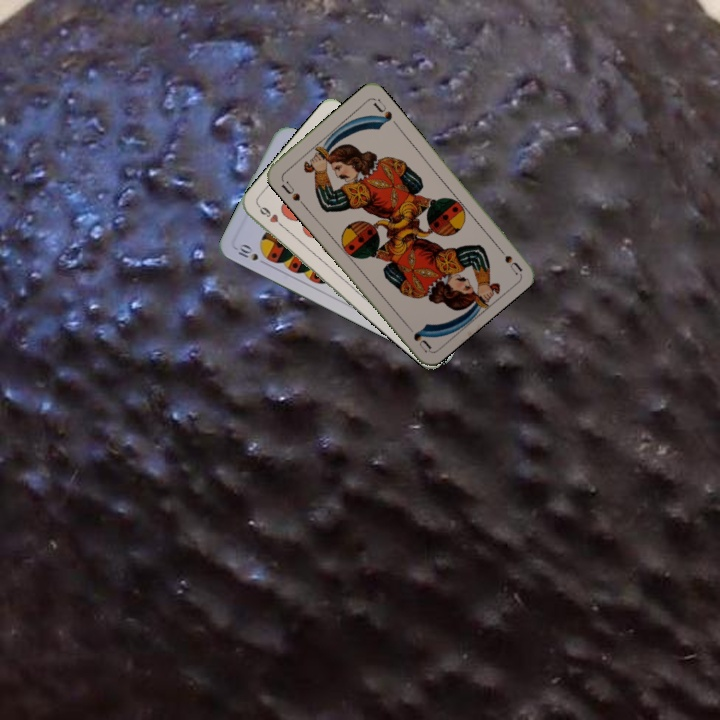H9: (254, 201, 288, 231)
S10: (232, 240, 270, 268)
SU: (492, 240, 524, 276), (277, 175, 307, 209)
